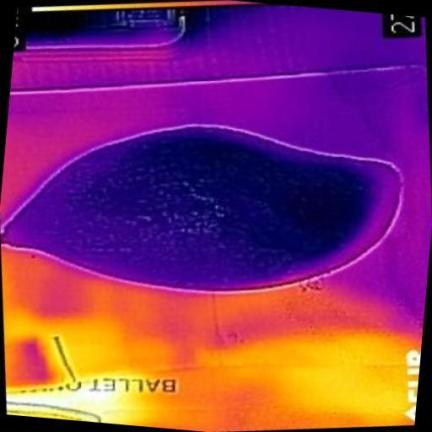mango: (0, 126, 399, 290)
